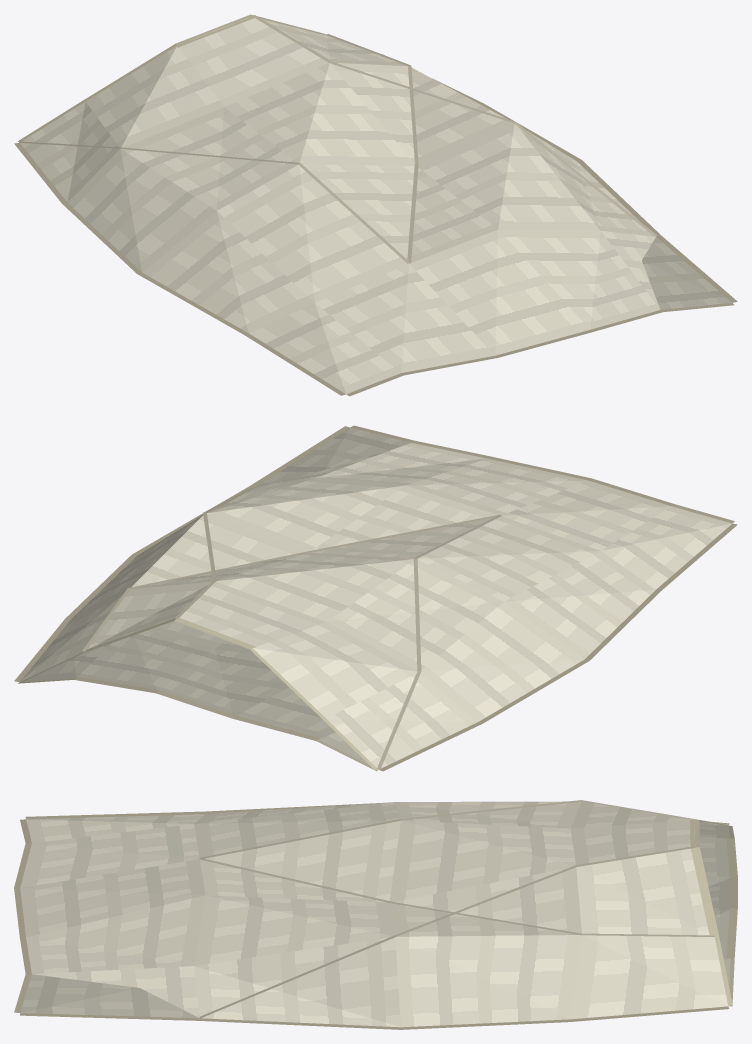
The model's file is bag_durasack.glb.
The picture shows the model from 3 angles, top to bottom: view 1: azimuth 30°, elevation 25°; view 2: azimuth 150°, elevation 25°; view 3: azimuth 270°, elevation 25°; orthographic projection. The views are drawn at different scales.
Visible parts, largest first — view 1: block_upper folded film, block_lower bag film; view 2: block_upper folded film, block_lower bag film; view 3: block_upper folded film, block_lower bag film, block_fine creased reflection (×6), block_heat welded side seam (×5), block_upper lip of open mouth, block_lower lip of open mouth.
Boxes of the visible parts, x1=… form: block_upper folded film: x1=20, y1=18, x2=660, y2=394; block_lower bag film: x1=642, y1=237, x2=732, y2=309; block_upper folded film: x1=20, y1=443, x2=732, y2=769; block_lower bag film: x1=23, y1=427, x2=410, y2=764; block_upper folded film: x1=20, y1=801, x2=727, y2=1027; block_lower bag film: x1=20, y1=823, x2=733, y2=1018; block_fine creased reflection (×6): x1=199, y1=800, x2=582, y2=1018; block_heat welded side seam (×5): x1=20, y1=811, x2=729, y2=1029; block_upper lip of open mouth: x1=691, y1=847, x2=718, y2=936; block_lower lip of open mouth: x1=726, y1=908, x2=737, y2=958.
Bounding box in the file's own units: 0.1449 × 0.0264 × 0.195.
Materials: 1 (1 with a texture image).
